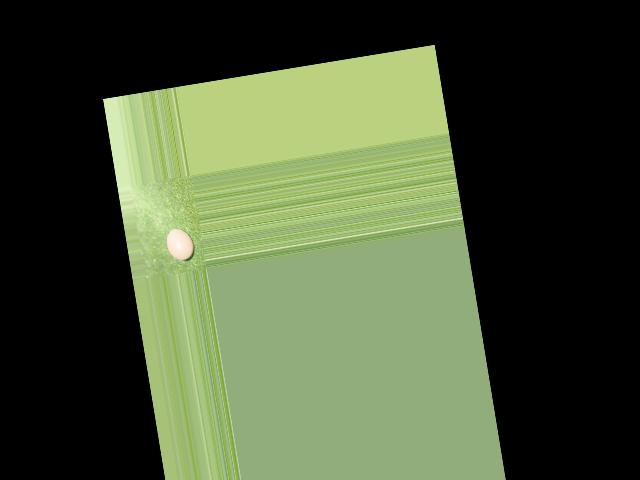egg: (165, 225, 196, 262)
